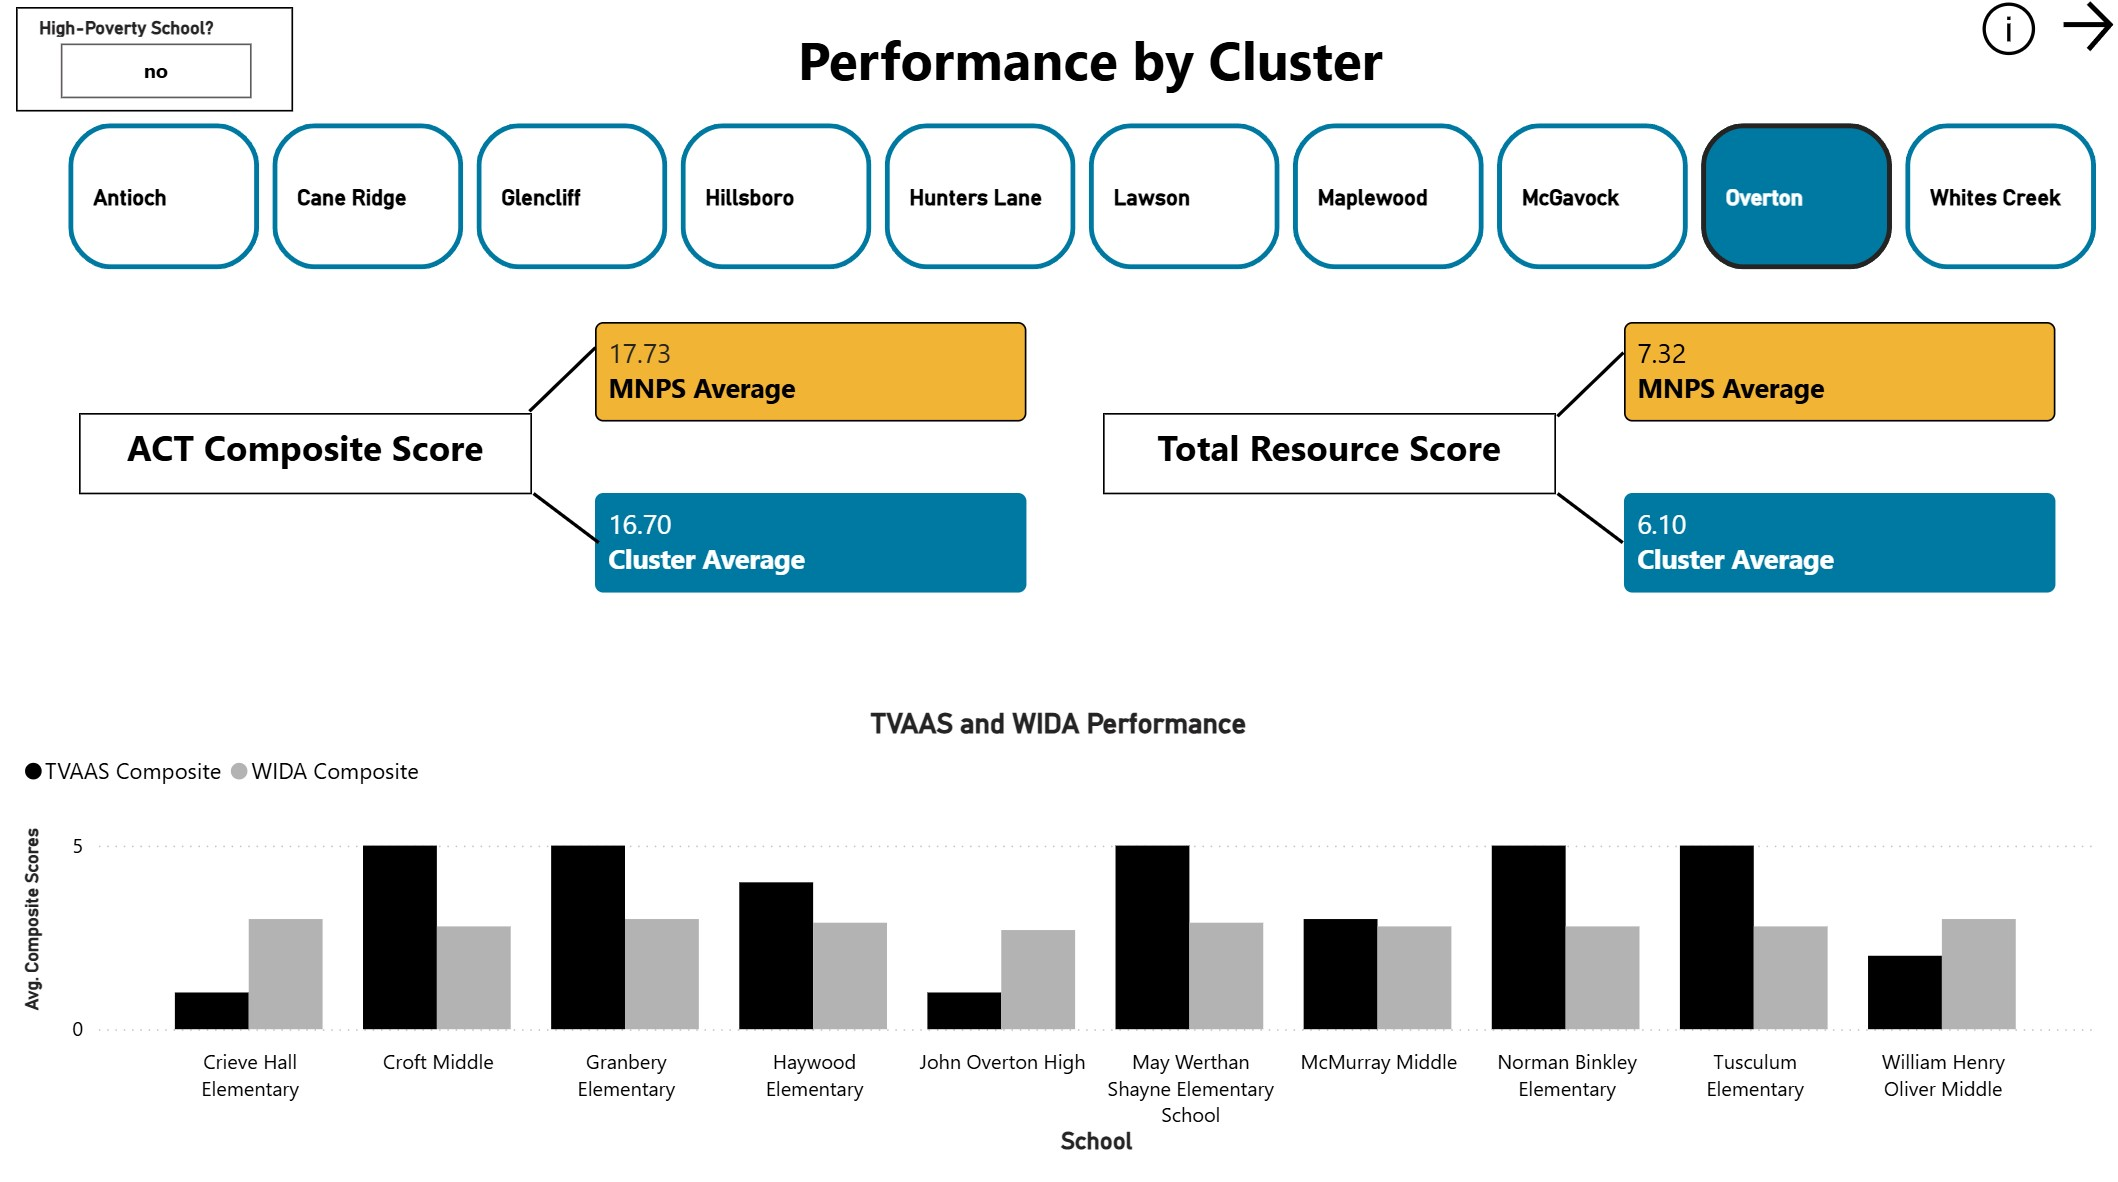

What the dashboard file says about the page in this screenshot:
{"tool":"powerbi","page":{"name":"Clusters","canvas":[1280,720],"ordinal":10},"visuals":[{"type":"clusteredColumnChart","title":"TVAAS and WIDA Performance","fields":{"Category":["schools info.School Name"],"Y":["select","Avg(schools info.tvaas_overall_comp)","Avg(schools info.wida_comp_avg)"]},"box":[11.5,430,1257.8,275.1],"z":0},{"type":"slicer","fields":{"Values":["schools info.high_poverty"]},"box":[1111.1,0,166.4,62.6],"z":1000},{"type":"advancedSlicerVisual","title":"Performance by Cluster","fields":{"Values":["schools info.cluster_name"]},"box":[38.7,73.3,1241.3,98.8],"z":2000},{"type":"multiRowCard","fields":{"Values":["Avg(schools info.act_avg_comp)","select"]},"box":[360.8,198.5,260.3,60.1],"z":3000},{"type":"multiRowCard","fields":{"Values":["Avg(schools info.act_avg_comp)"]},"box":[360.8,301.5,260.3,60],"z":4000},{"type":"multiRowCard","fields":{"Values":["select","Avg(schools info.total_resource_score)"]},"box":[981,198.5,260.3,60.1],"z":5000},{"type":"multiRowCard","fields":{"Values":["select","Avg(schools info.total_resource_score)"]},"box":[981,301.5,260.3,60],"z":6000},{"type":"textbox","box":[458,12.4,402.8,61],"z":7000},{"type":"textbox","box":[50.2,252.9,272.6,48.6],"z":8000},{"type":"textbox","box":[667.2,252.9,272.6,48.6],"z":9000},{"type":"shape","box":[939.8,289.1,41.2,54.4],"z":10000},{"type":"shape","box":[934.1,215.8,53.5,40.4],"z":11000},{"type":"shape","box":[314.6,212.5,53.5,40.4],"z":12000},{"type":"shape","box":[322.9,289.1,41.2,54.4],"z":13000}]}

Visuals, with their boxes in screenshot pixels (x1, y1, x2, y2), scaled from the page's 1280x720 canvas onto the 2118x1182 screenshot:
"TVAAS and WIDA Performance" clusteredColumnChart: Rect(19, 706, 2100, 1158)
slicer - schools info.high_poverty: Rect(1839, 0, 2114, 103)
"Performance by Cluster" advancedSlicerVisual: Rect(64, 120, 2117, 283)
multiRowCard - Avg(schools info.act_avg_comp) x select: Rect(597, 326, 1028, 425)
multiRowCard - Avg(schools info.act_avg_comp): Rect(597, 495, 1028, 593)
multiRowCard - select x Avg(schools info.total_resource_score): Rect(1623, 326, 2054, 425)
multiRowCard - select x Avg(schools info.total_resource_score): Rect(1623, 495, 2054, 593)
textbox: Rect(758, 20, 1424, 120)
textbox: Rect(83, 415, 534, 495)
textbox: Rect(1104, 415, 1555, 495)
shape: Rect(1555, 475, 1623, 564)
shape: Rect(1546, 354, 1634, 421)
shape: Rect(521, 349, 609, 415)
shape: Rect(534, 475, 602, 564)
